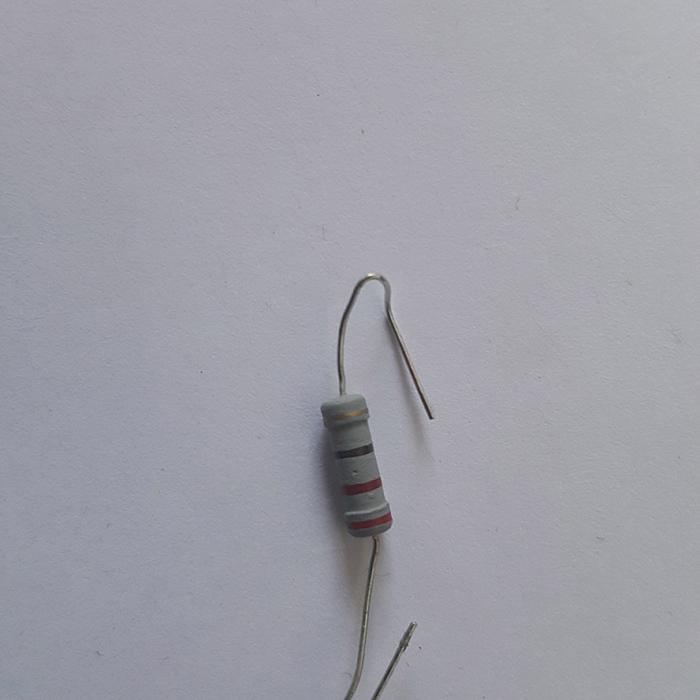resistor: (320, 390, 393, 537)
